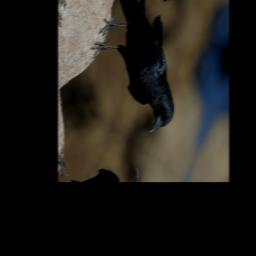Crow: (78, 0, 201, 145)
